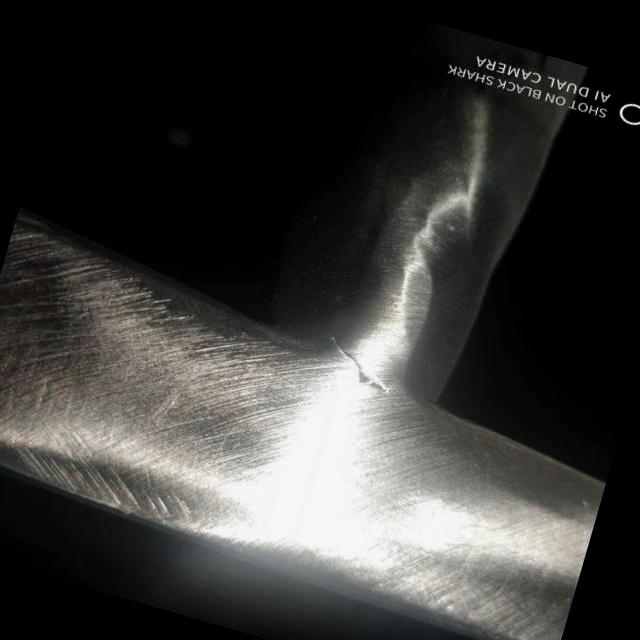defect: (330, 331, 390, 392)
